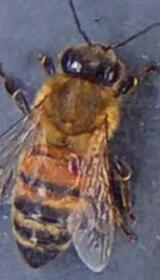varroa_mite: (54, 142, 98, 176)
